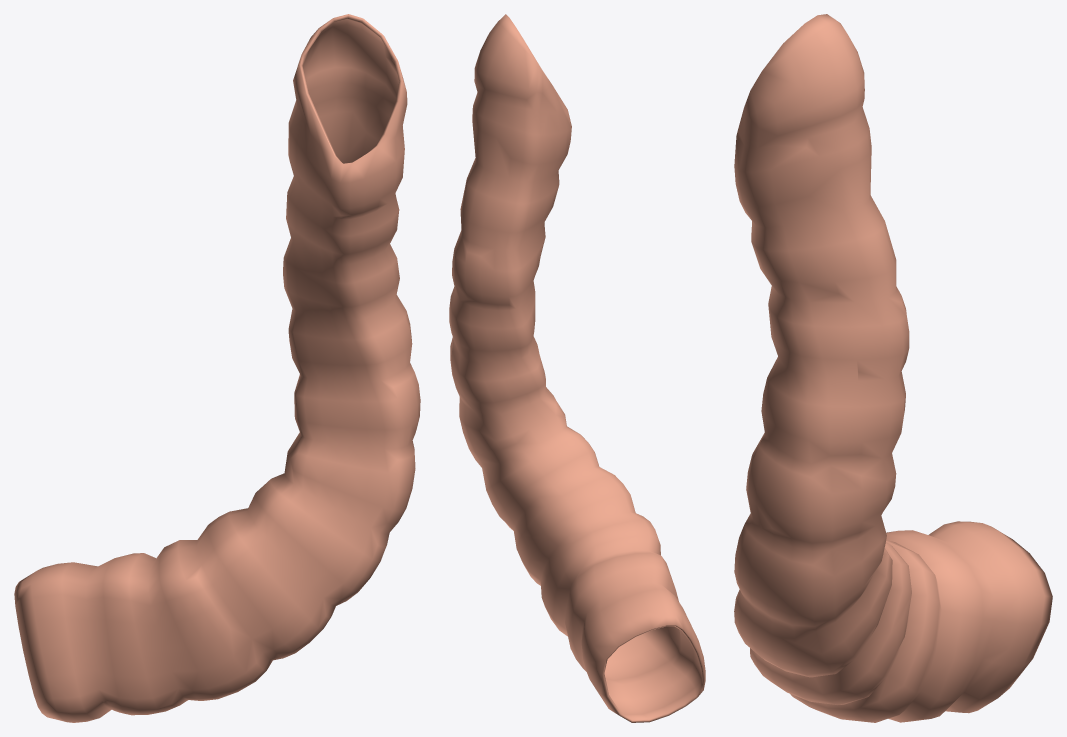
File: visceras-descending-colon.glb
3 views of the same model, side by side, from view 1: azimuth 30°, elevation 25°; view 2: azimuth 150°, elevation 25°; view 3: azimuth 270°, elevation 25° (orthographic). The views are drawn at different scales.
Parts seen in each view (by area): view 1: Descending colon; view 2: Descending colon; view 3: Descending colon.
Boxes of the visible parts, box(x1,y1,x2,y2) form: Descending colon: box(14, 14, 420, 722); Descending colon: box(449, 14, 705, 722); Descending colon: box(734, 14, 1052, 722).
Size of the model in its own units: 0.1325 by 0.2632 by 0.0937.
